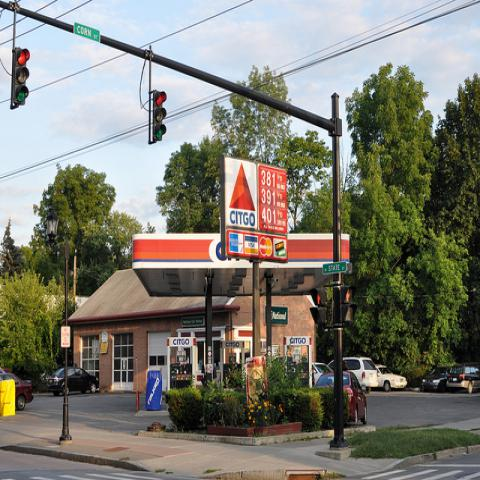car: (328, 357, 380, 394), (47, 365, 101, 395), (343, 370, 368, 425), (0, 373, 34, 411), (423, 364, 453, 392), (447, 364, 478, 388), (377, 366, 406, 390), (312, 362, 334, 388)
